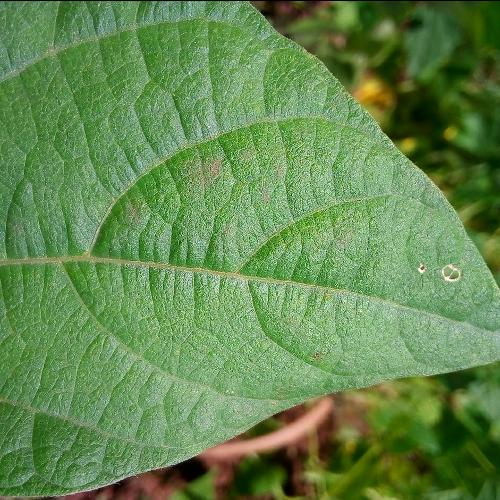embun tepung: (354, 165, 462, 308)
